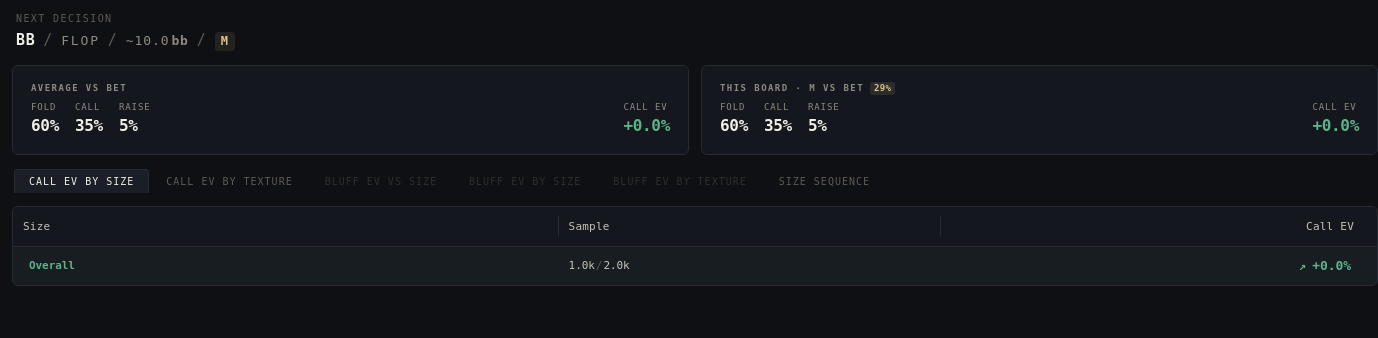
Test case: ResultsPane — size-sequence highlight › marks the picked sequence row and tags it
Step 1. Click the button "Size sequence" → (824, 181), box [764,169,885,193]
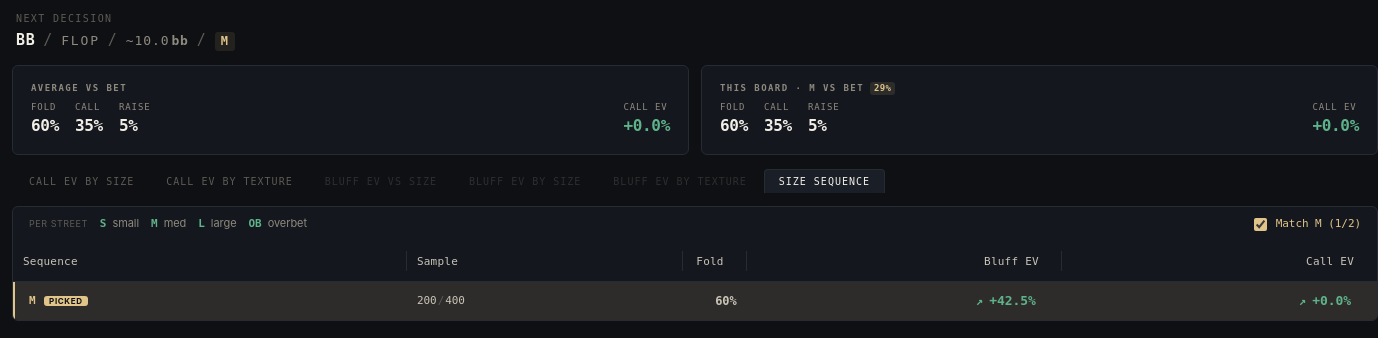
Expected: the number of rows with class "row-hl" is 1, [13,282,1377,320]
Expected: the text "M" is shown, [29,294,36,307]
Expected: the text "picked" is shown, [44,296,88,306]
